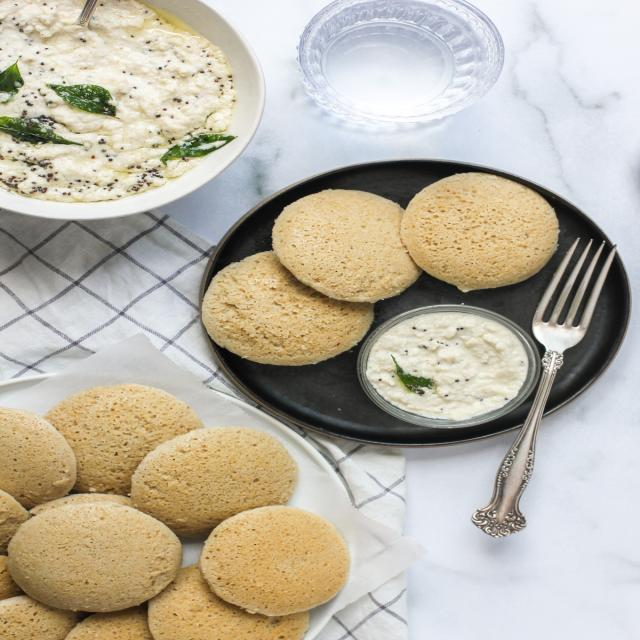Wet Waste: (0, 0, 249, 206), (28, 378, 201, 502), (8, 495, 184, 615), (367, 306, 535, 423), (404, 168, 561, 292), (201, 256, 374, 366), (132, 429, 295, 536), (203, 503, 353, 616), (282, 186, 416, 304), (137, 556, 313, 640), (0, 395, 81, 518)
